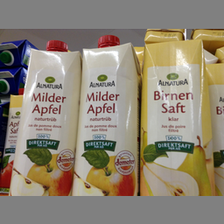juice: (139, 39, 216, 195), (71, 35, 141, 195), (9, 40, 81, 195)
